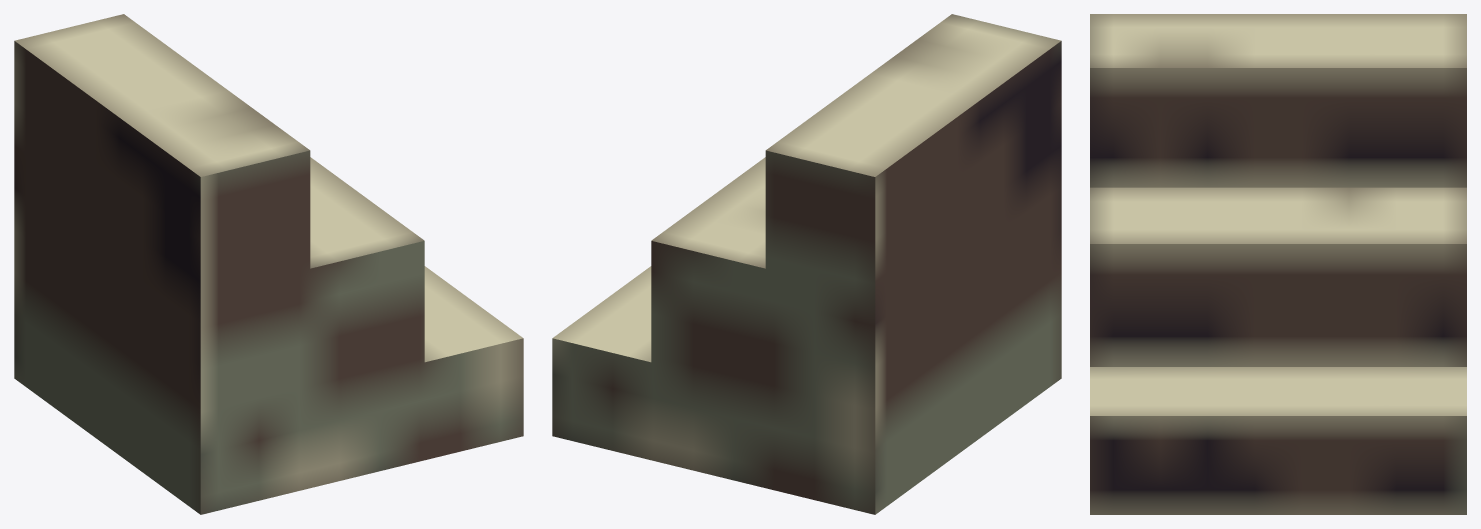
File: stair3.fbx
3 views of the same model, side by side, from view 1: azimuth 30°, elevation 25°; view 2: azimuth 150°, elevation 25°; view 3: azimuth 270°, elevation 25° (orthographic).
Visible parts, largest first — view 1: Wall1.013; view 2: Wall1.013; view 3: Wall1.013.
Part boxes in pixels (x1,y1,x2,y2): Wall1.013: [14, 14, 523, 514]; Wall1.013: [552, 14, 1061, 514]; Wall1.013: [1090, 14, 1466, 514].
Bounding box in the file's own units: 200 × 200 × 200.
